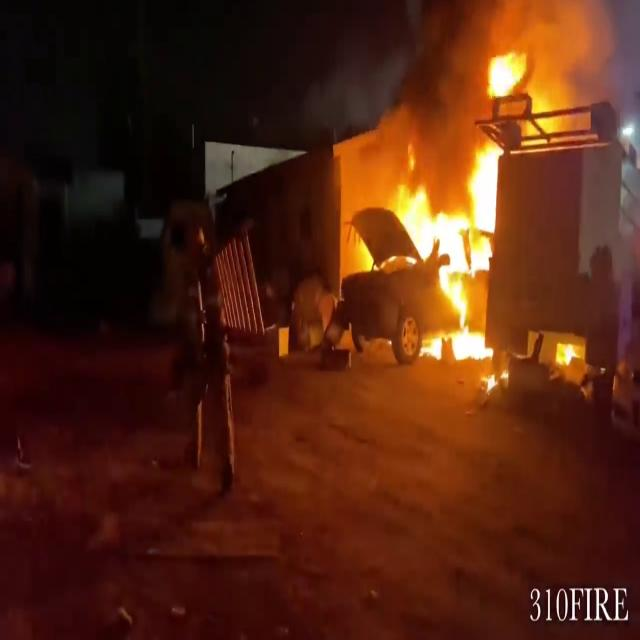Fire: (394, 141, 511, 367), (479, 41, 534, 104)
